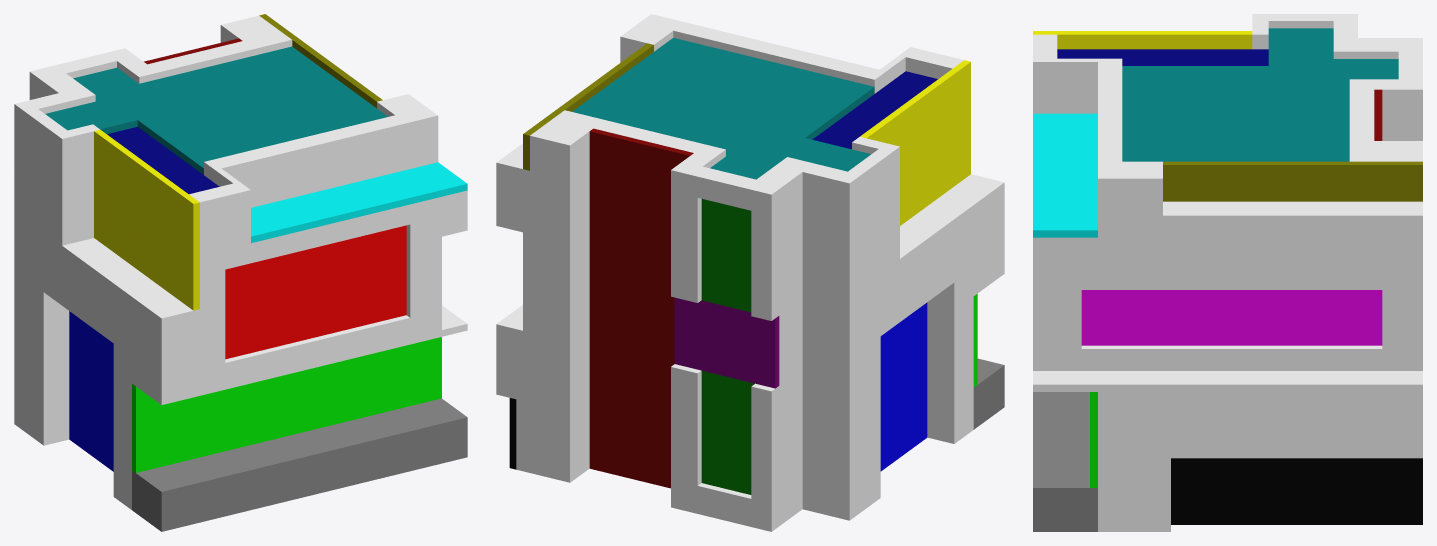
Rendered from VoxelTestObj.obj.
The picture shows the model from 3 angles, left to right: view 1: azimuth 30°, elevation 25°; view 2: azimuth 150°, elevation 25°; view 3: azimuth 270°, elevation 25°; orthographic projection. The views are drawn at different scales.
Bounding box in the file's own units: 4.8 × 4.8 × 4.8.
1 material, 1 textured.
